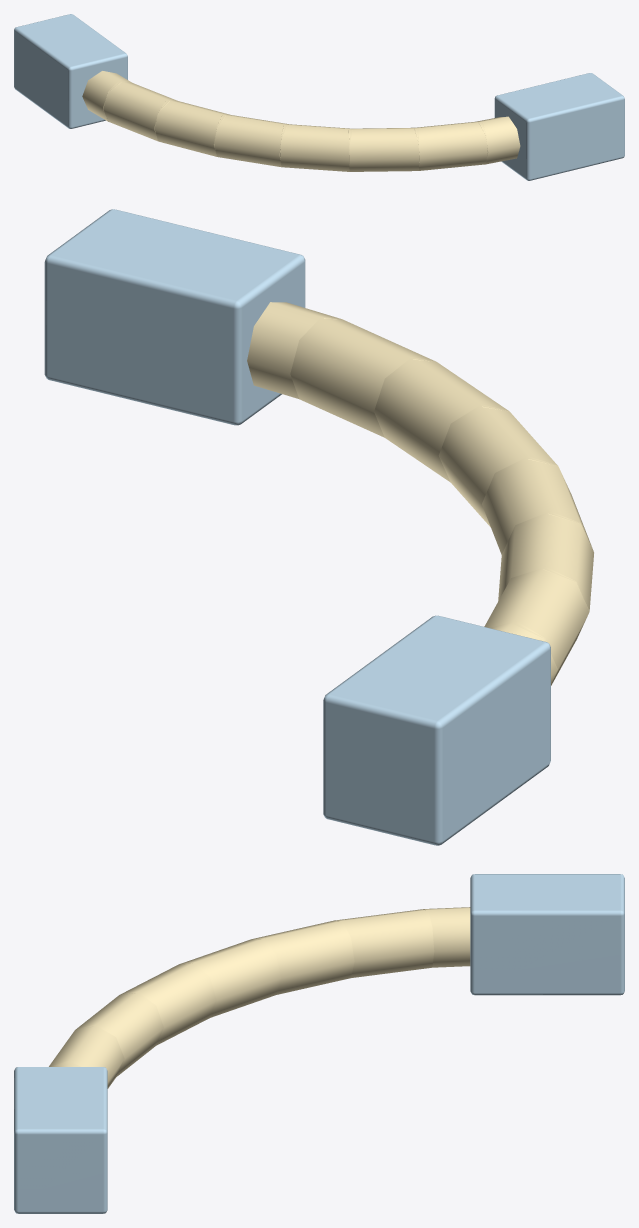
File: R4C_ROD_ARC_LONG.glb
3 views of the same model, one above another, from view 1: azimuth 30°, elevation 25°; view 2: azimuth 150°, elevation 25°; view 3: azimuth 270°, elevation 25° (orthographic). The views are drawn at different scales.
Parts seen in each view (by area): view 1: R4C_ROD_ARC_LONG; view 2: R4C_ROD_ARC_LONG; view 3: R4C_ROD_ARC_LONG.
Part boxes in pixels (box(x1,y1,x2,y2)): R4C_ROD_ARC_LONG: box(14, 14, 624, 180); R4C_ROD_ARC_LONG: box(44, 209, 593, 845); R4C_ROD_ARC_LONG: box(14, 874, 624, 1213).
Size of the model in its own units: 1.47 by 0.226 by 1.47.
